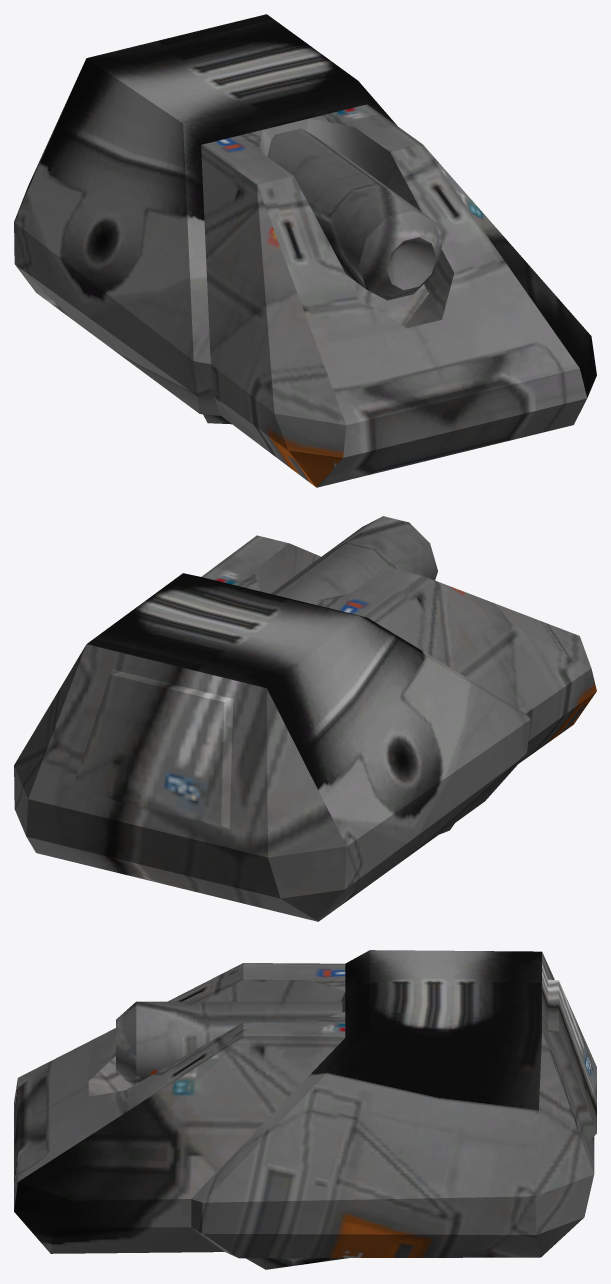
File: corvettegun.0.obj
The picture shows the model from 3 angles, top to bottom: view 1: azimuth 30°, elevation 25°; view 2: azimuth 150°, elevation 25°; view 3: azimuth 270°, elevation 25°; orthographic projection. The views are drawn at different scales.
Parts seen in each view (by area): view 1: Corvette_Turret; view 2: Corvette_Turret; view 3: Corvette_Turret.
Part boxes in pixels (x1,y1,x2,y2): Corvette_Turret: (14,14,596,487); Corvette_Turret: (14,516,596,921); Corvette_Turret: (14,950,596,1269).
Bounding box in the file's own units: 3.08 × 2.17 × 5.04.
Materials: 1 (1 with a texture image).
